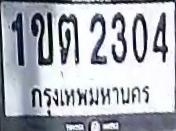0: (132, 12, 148, 63)
1: (11, 12, 24, 66)
2: (88, 12, 106, 64)
3: (110, 11, 127, 64)
4: (152, 12, 168, 62)
A02: (31, 12, 53, 65)
A21: (58, 14, 80, 64)
BKK: (27, 80, 152, 111)
